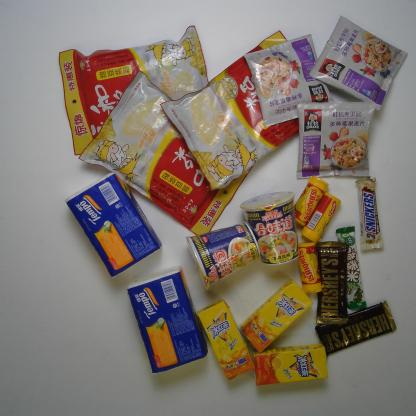Candy: (300, 190, 342, 245), (292, 173, 330, 228), (296, 240, 326, 296)
Chocolate: (312, 297, 400, 360), (314, 240, 352, 327), (334, 224, 369, 310), (351, 173, 387, 252)
Drink: (236, 276, 314, 356), (194, 296, 257, 383), (250, 339, 332, 389)
Instant Drink: (74, 66, 254, 238), (158, 28, 303, 195), (56, 22, 212, 157), (307, 11, 410, 114), (241, 32, 338, 129), (293, 98, 381, 183)
Instant Noodles: (180, 220, 263, 293), (237, 189, 302, 268)
Tissue: (61, 168, 166, 282), (123, 262, 210, 378)
